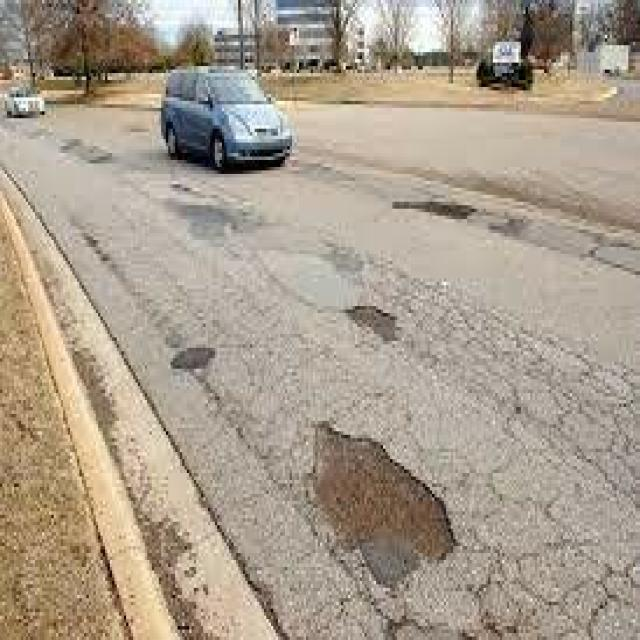Pothole: (299, 264, 512, 640), (350, 136, 512, 244), (119, 324, 259, 424)
